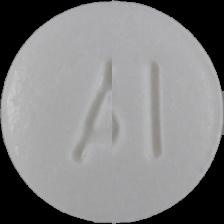0904-6189: (0, 0, 224, 224)
